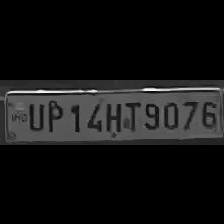0: (160, 97, 180, 129)
1: (64, 98, 82, 132)
4: (83, 97, 103, 132)
6: (196, 96, 218, 130)
7: (179, 96, 197, 130)
9: (140, 97, 162, 130)
H: (104, 98, 122, 132)
P: (44, 97, 64, 132)
T: (120, 97, 140, 131)
U: (23, 98, 44, 132)
